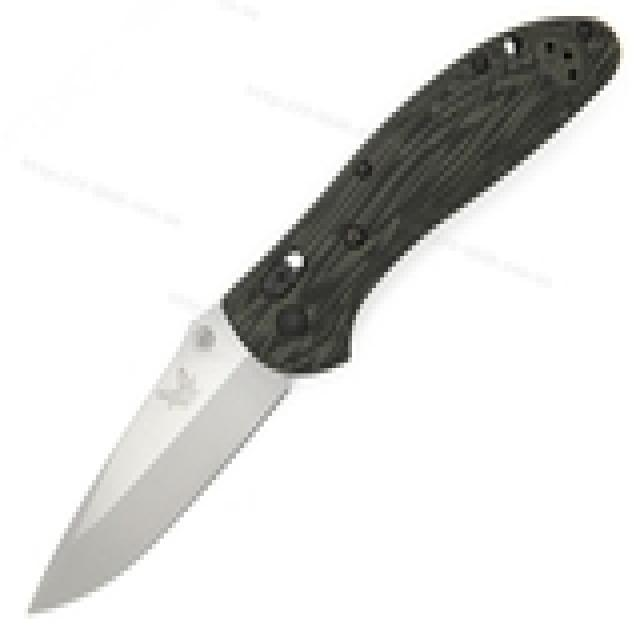Knife: (11, 22, 630, 640)
